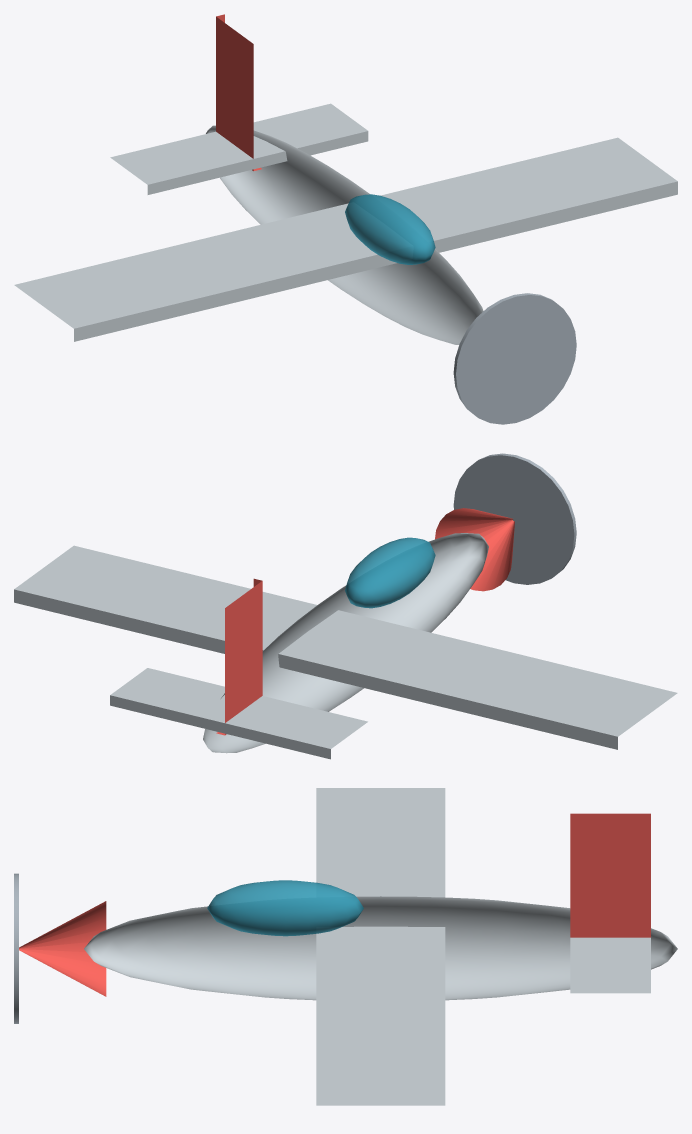
File: fixedwing.glb
3 renders of one model, top to bottom at view 1: azimuth 30°, elevation 25°; view 2: azimuth 150°, elevation 25°; view 3: azimuth 270°, elevation 25°, orthographic. The views are drawn at different scales.
Parts seen in each view (by area): view 1: fixedwing; view 2: fixedwing; view 3: fixedwing.
Boxes of the visible parts, x1,y1,x2,y2 form: fixedwing: (14, 14, 677, 424); fixedwing: (14, 453, 677, 759); fixedwing: (14, 788, 677, 1105).
Bounding box in the file's own units: 6.7 × 2.03 × 5.92.
